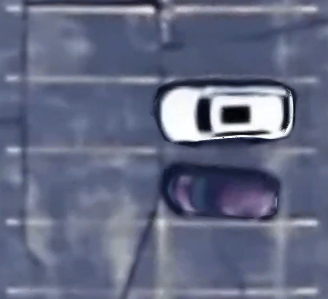Occupied: (164, 150, 316, 224), (164, 80, 316, 150)
Vacant: (6, 150, 164, 223), (6, 8, 164, 79), (6, 79, 164, 150), (7, 223, 164, 292), (164, 8, 316, 79), (164, 223, 317, 292)
